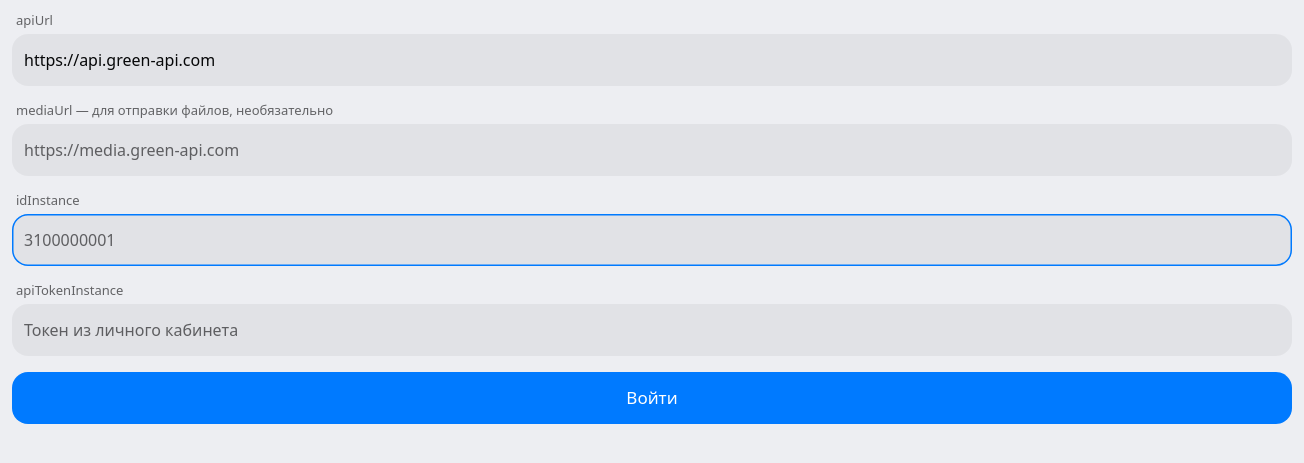
Test: CredentialsForm › отклоняет idInstance не из цифр
The width and height of the screenshot is (1304, 463).
Type "11abc" into the field labelled "idInstance".
click(652, 240); type("11abc")  # box x1=12 y1=214 x2=1292 y2=266
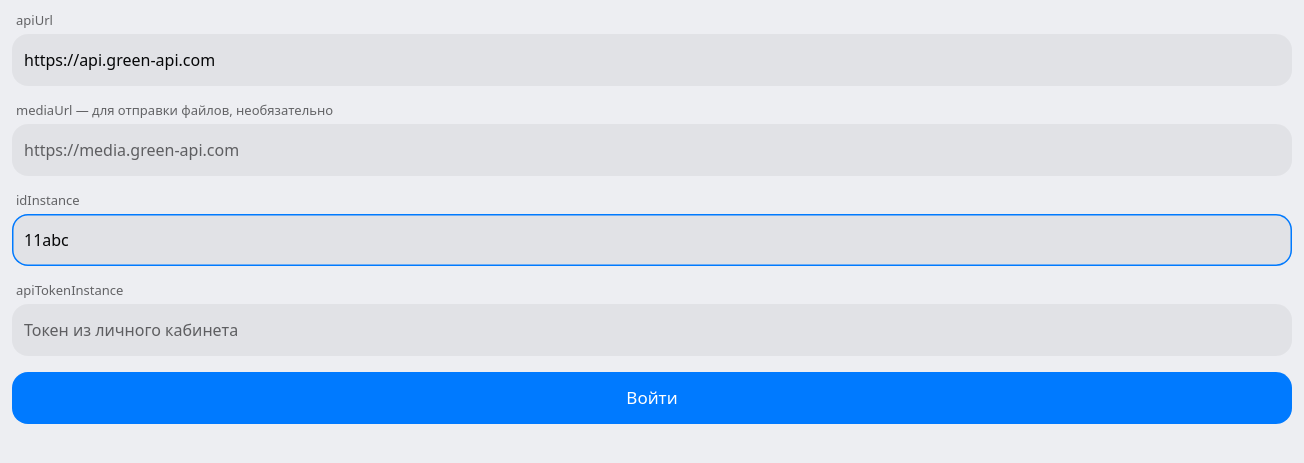
Type "token" into the password field labelled "apiTokenInstance".
click(652, 330); type("token")  # box x1=12 y1=304 x2=1292 y2=356
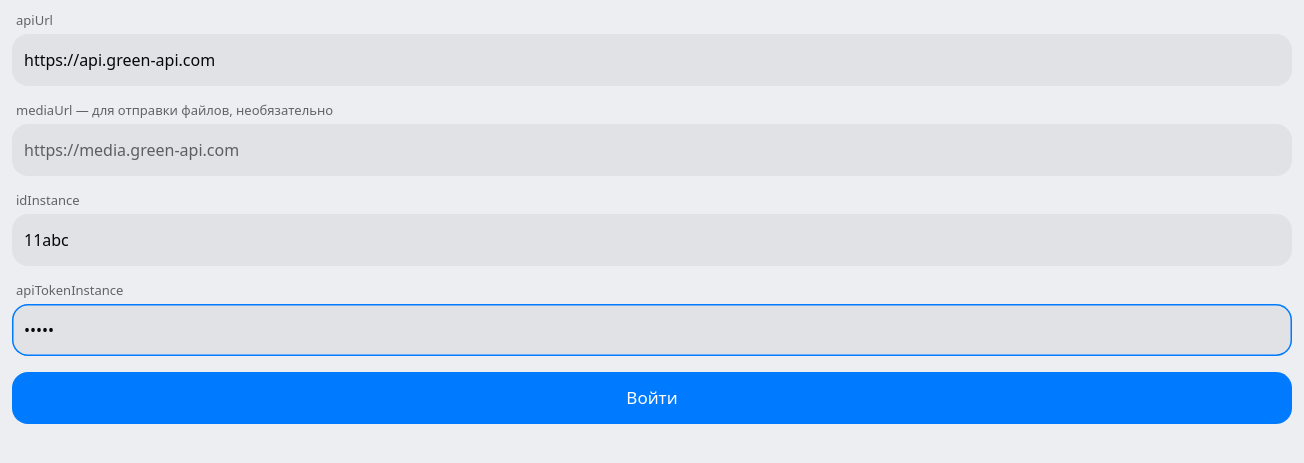
Click the button "Войти".
click(652, 398)  # box x1=12 y1=372 x2=1292 y2=424
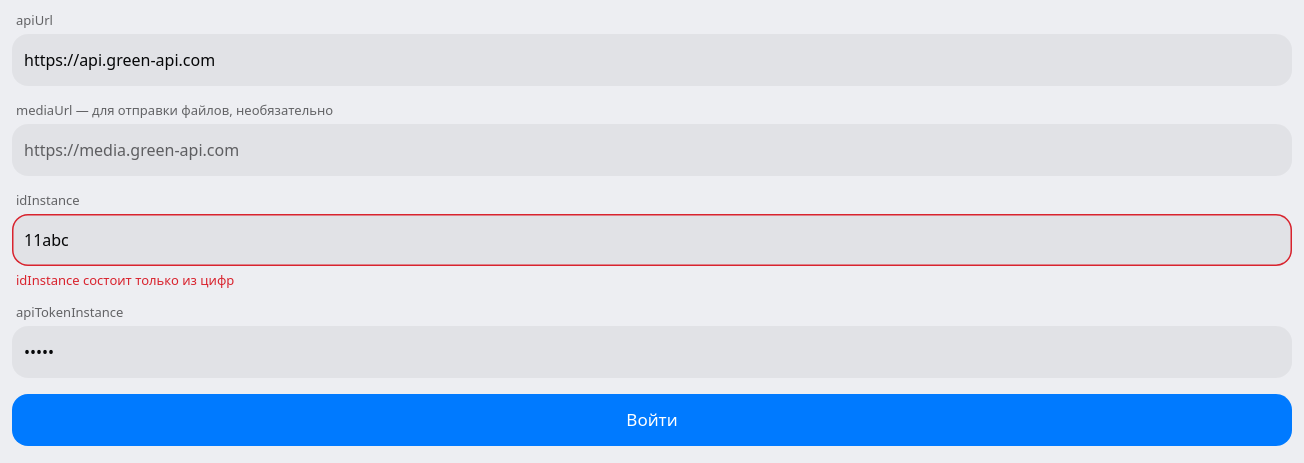
Now the text "idInstance состоит только из цифр" is shown, box x1=16 y1=271 x2=234 y2=289
